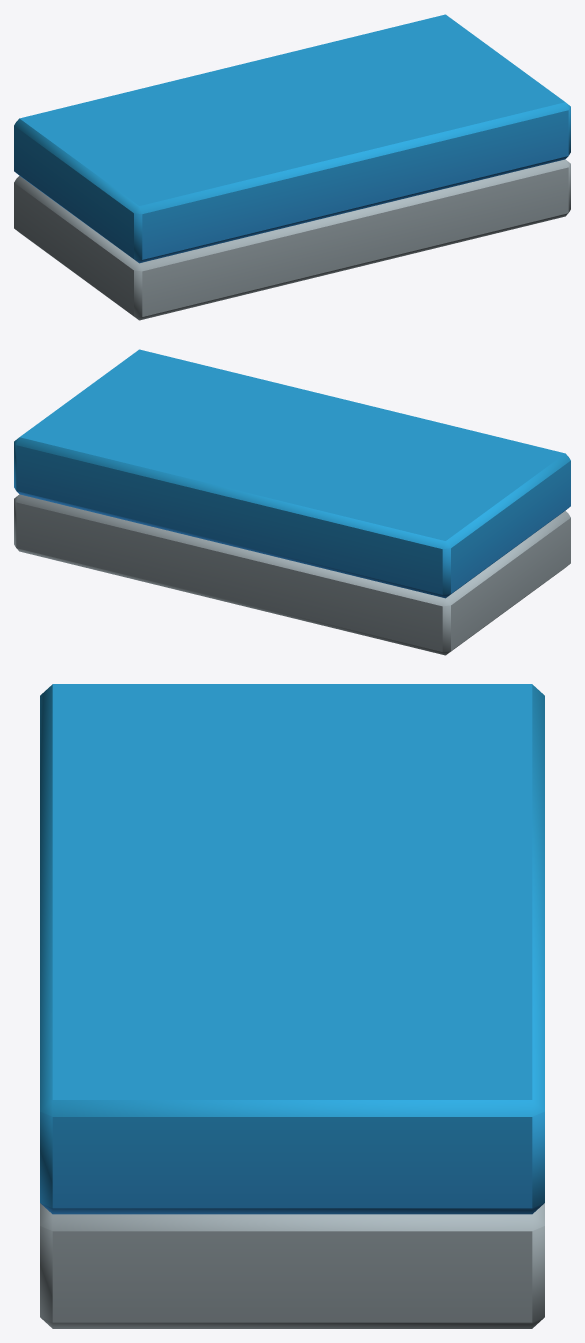
Rendered from platform-4x2x1-blue.glb.
The picture shows the model from 3 angles, top to bottom: view 1: azimuth 30°, elevation 25°; view 2: azimuth 150°, elevation 25°; view 3: azimuth 270°, elevation 25°; orthographic projection. The views are drawn at different scales.
Parts seen in each view (by area): view 1: platform_4x2x1_blue; view 2: platform_4x2x1_blue; view 3: platform_4x2x1_blue.
Part boxes in pixels (box(x1,y1,x2,y2)): platform_4x2x1_blue: box(14, 14, 570, 320); platform_4x2x1_blue: box(14, 349, 570, 655); platform_4x2x1_blue: box(40, 684, 544, 1328).
Size of the model in its own units: 4 by 1 by 2.
Materials: 1 (1 with a texture image).
